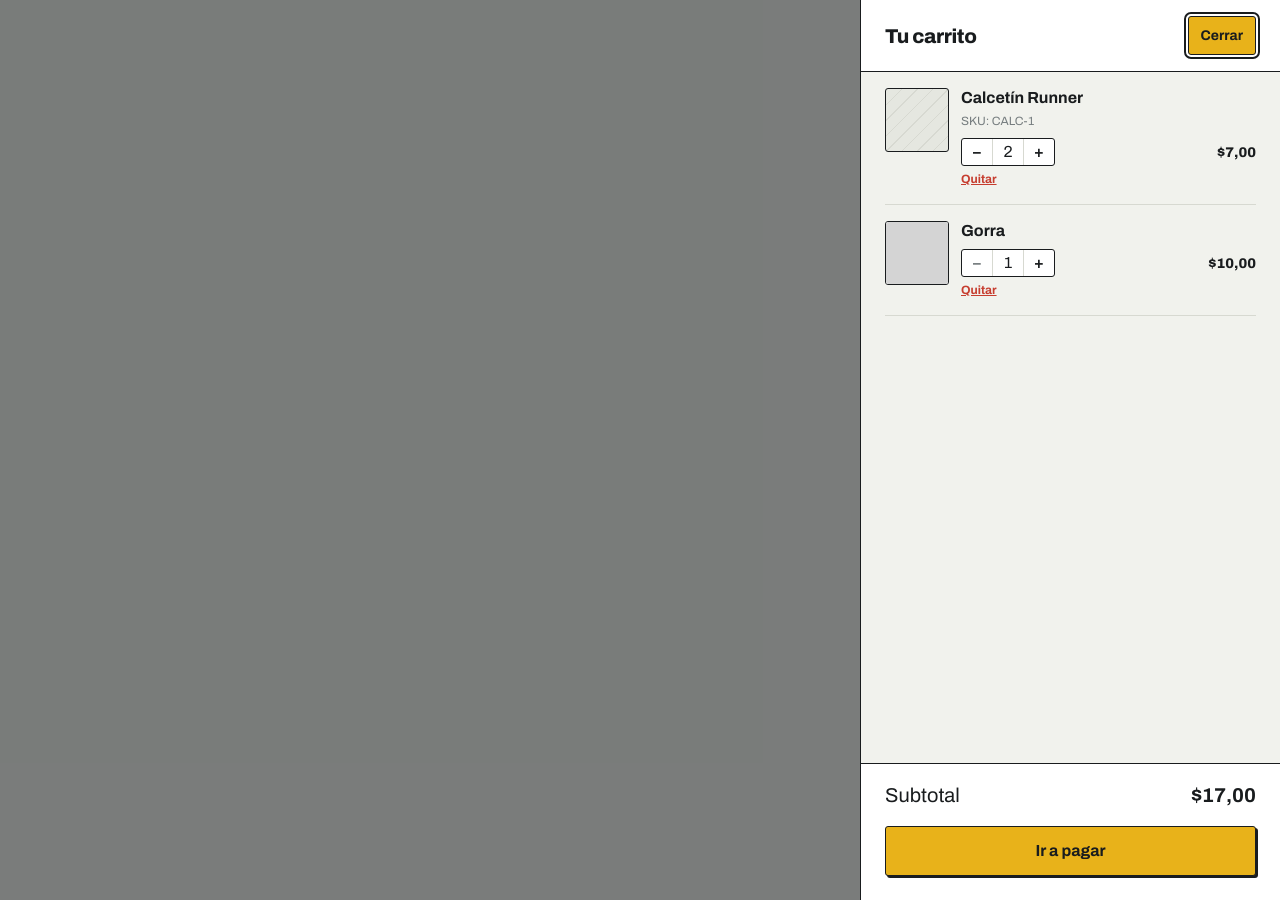
CartDrawer › elimina ítems del carrito
Click the button "Quitar" below "$7,00".
click(979, 179)  # box [961, 170, 997, 188]
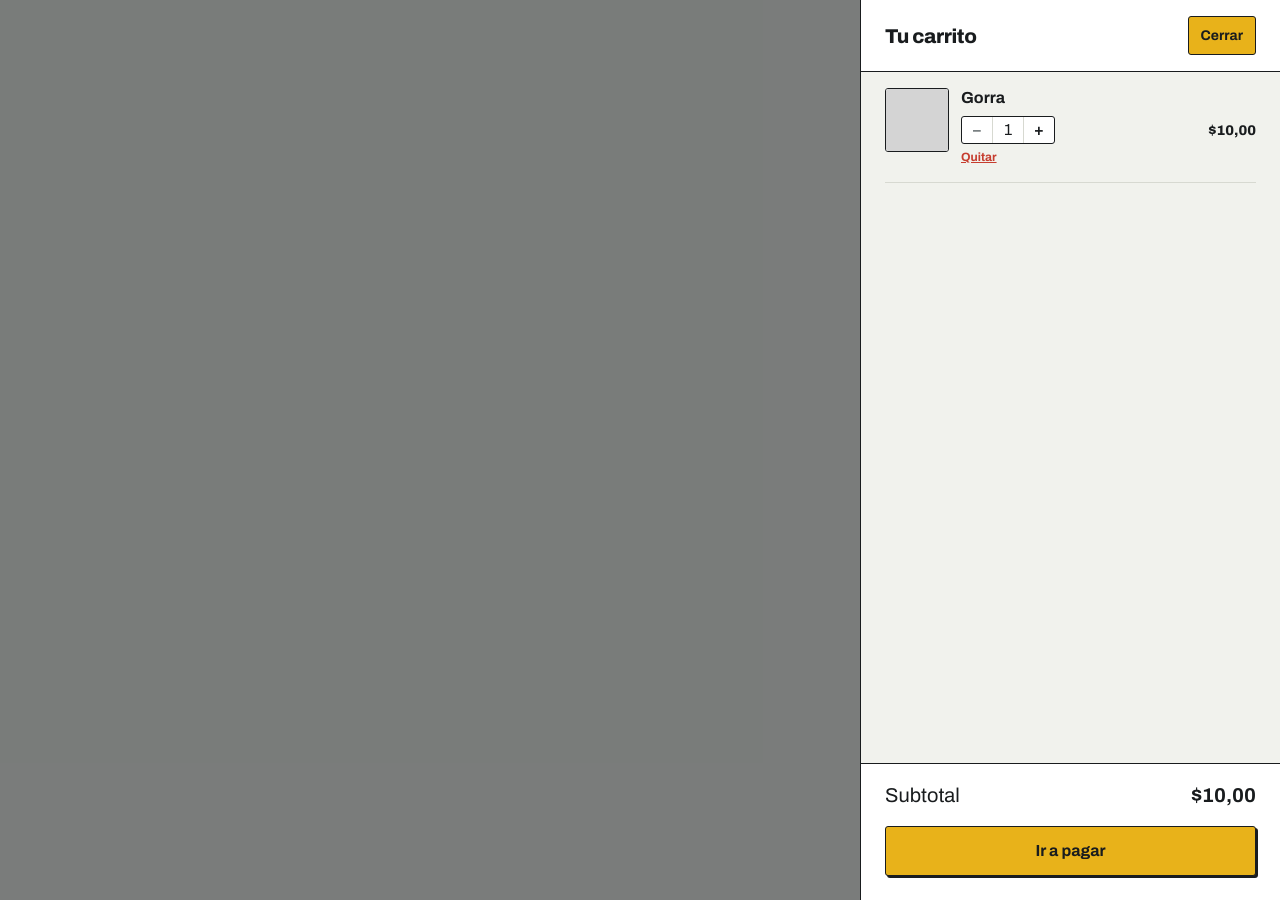
Result: the text "Calcetín Runner" is gone
